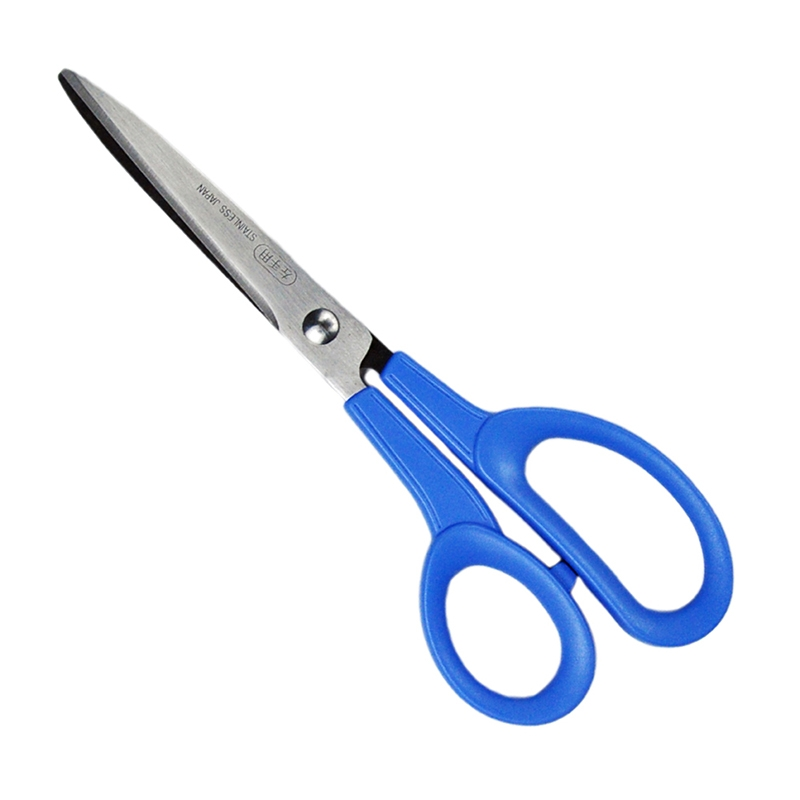scissors: (50, 58, 742, 735)
